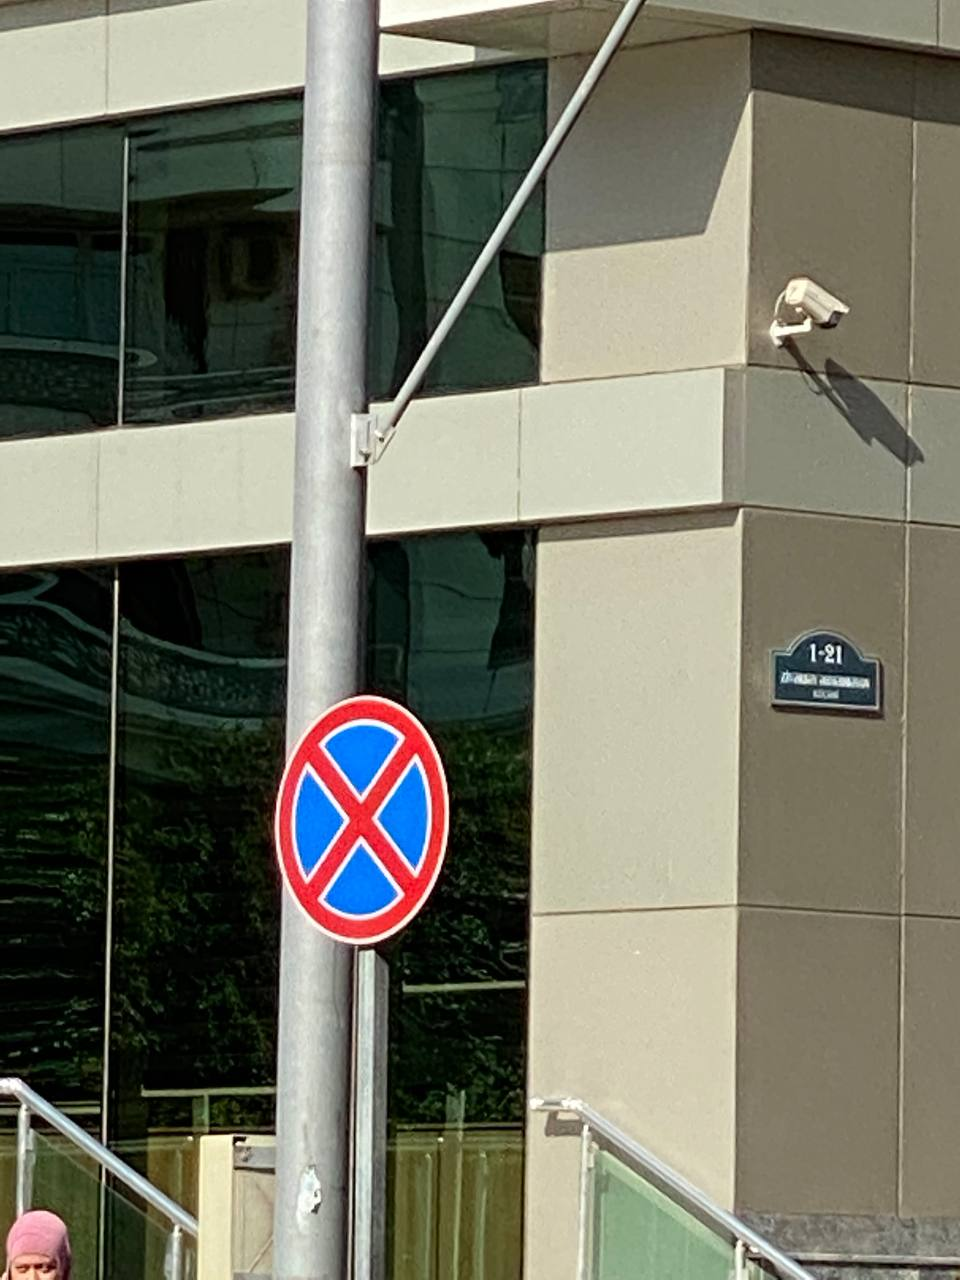No Parking: (276, 695, 451, 944)
